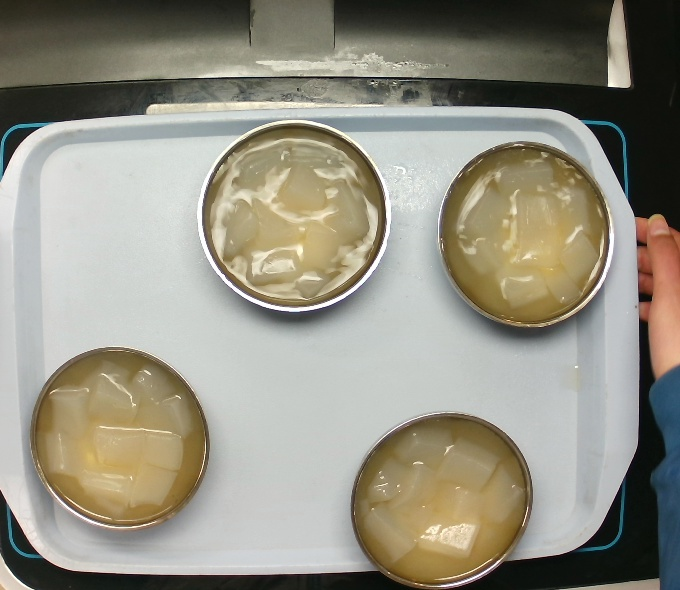wcq-YeGuoLi: (427, 142, 623, 327), (26, 346, 218, 533), (346, 408, 547, 586), (196, 129, 389, 313)
